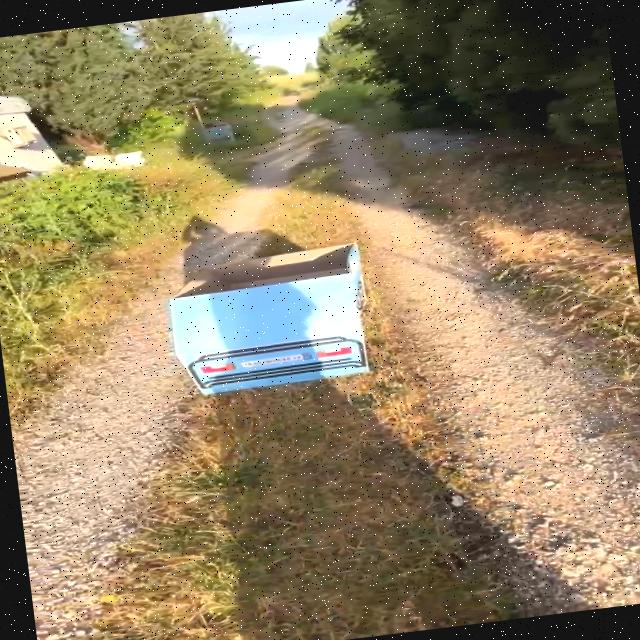blue_car: (114, 217, 428, 462)
